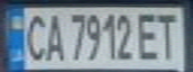1: (100, 10, 118, 61)
2: (115, 10, 136, 61)
7: (66, 10, 84, 62)
9: (84, 10, 103, 61)
A: (42, 10, 69, 63)
C: (21, 10, 51, 63)
E: (136, 9, 163, 61)
T: (154, 9, 184, 61)
